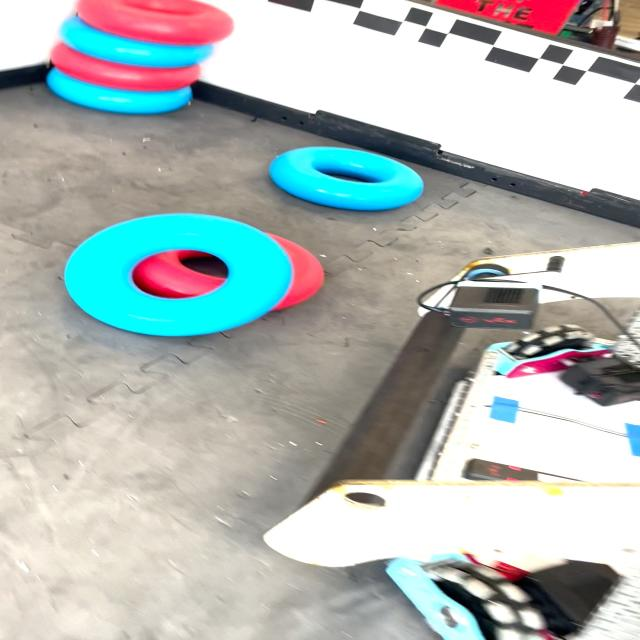Blue-Ring: (64, 214, 291, 336), (269, 146, 422, 210), (60, 16, 213, 68), (47, 69, 191, 114)
Red-Ring: (51, 42, 200, 91), (76, 0, 233, 45)
